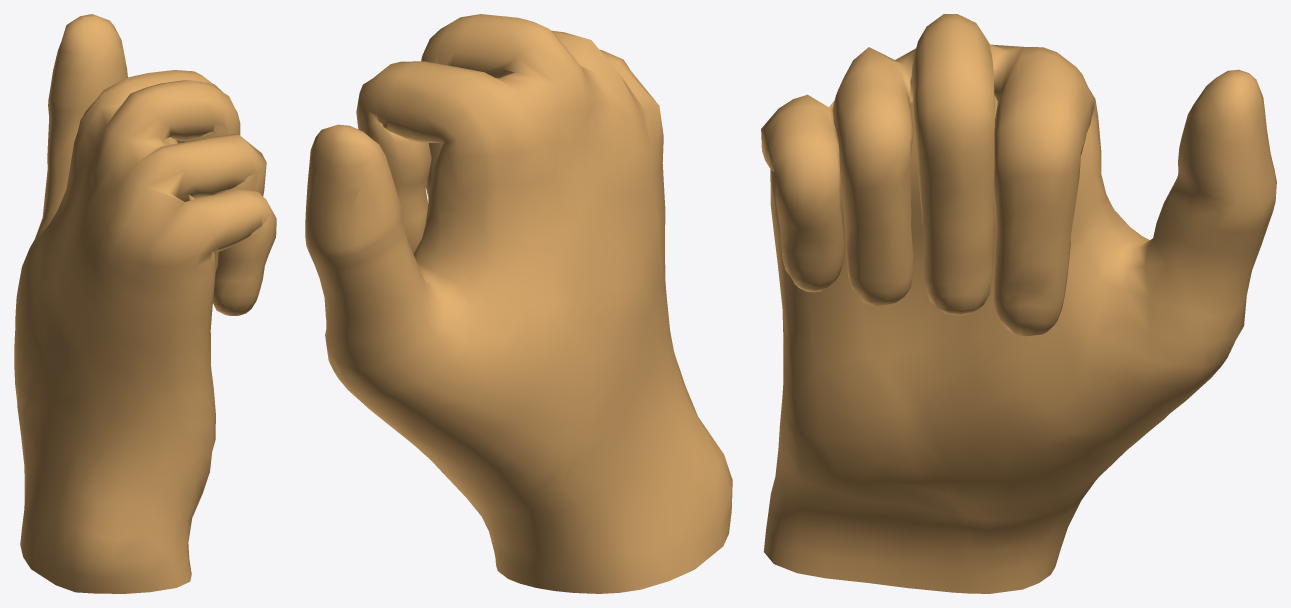
Rendered from LSM_Vocal_A.glb.
3 views of the same model, side by side, from view 1: azimuth 30°, elevation 25°; view 2: azimuth 150°, elevation 25°; view 3: azimuth 270°, elevation 25° (orthographic). The views are drawn at different scales.
Parts seen in each view (by area): view 1: hand_L; view 2: hand_L; view 3: hand_L.
Part boxes in pixels (box(x1,y1,x2,y2)): hand_L: box(14, 14, 276, 593); hand_L: box(305, 14, 732, 593); hand_L: box(761, 14, 1276, 593).
Size of the model in its own units: 1.46 by 2.59 by 2.11.
